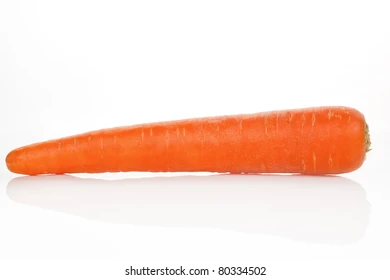carrot: (9, 97, 381, 217)
